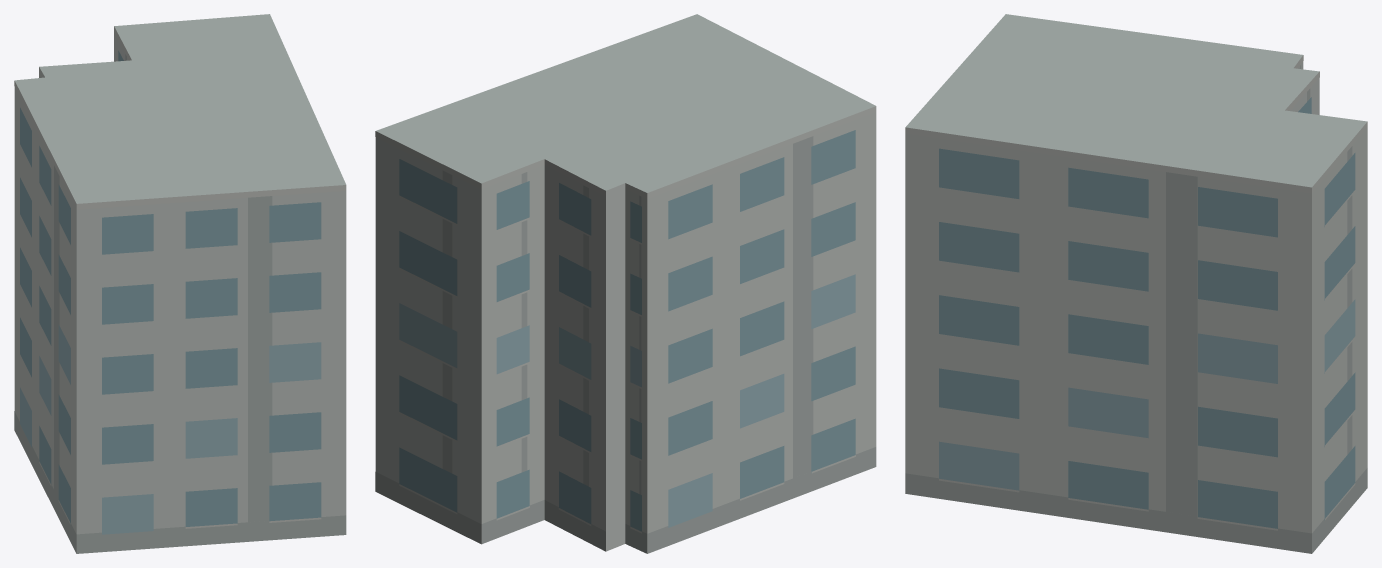
The model's file is survey-upis-33035081.glb.
The picture shows the model from 3 angles, left to right: view 1: azimuth 30°, elevation 25°; view 2: azimuth 150°, elevation 25°; view 3: azimuth 270°, elevation 25°; orthographic projection. The views are drawn at different scales.
Parts seen in each view (by area): view 1: survey-upis-33035081.tmp; view 2: survey-upis-33035081.tmp; view 3: survey-upis-33035081.tmp.
Boxes of the visible parts, x1,y1,x2,y2 form: survey-upis-33035081.tmp: (14, 14, 346, 553); survey-upis-33035081.tmp: (375, 14, 876, 553); survey-upis-33035081.tmp: (905, 14, 1367, 553).
Size of the model in its own units: 14.73 by 14.5 by 16.59.
